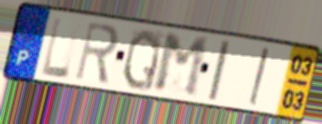I: (206, 38, 233, 102), (247, 45, 271, 108)
L: (40, 15, 72, 81)
M: (152, 32, 210, 100)
Q: (120, 27, 164, 93)
R: (73, 19, 121, 86)
